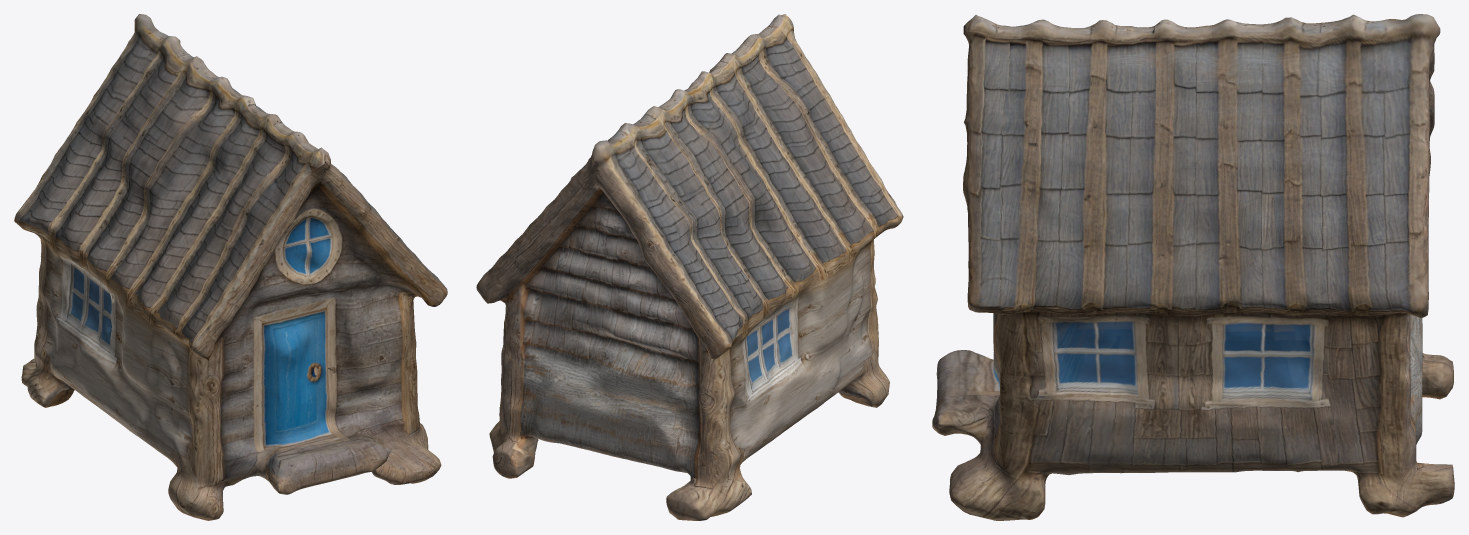
Rendered from Mini_house.glb.
3 views of the same model, side by side, from view 1: azimuth 30°, elevation 25°; view 2: azimuth 150°, elevation 25°; view 3: azimuth 270°, elevation 25° (orthographic). The views are drawn at different scales.
Bounding box in the file's own units: 0.843 × 1.13 × 1.2.
Materials: 1 (1 with a texture image).
